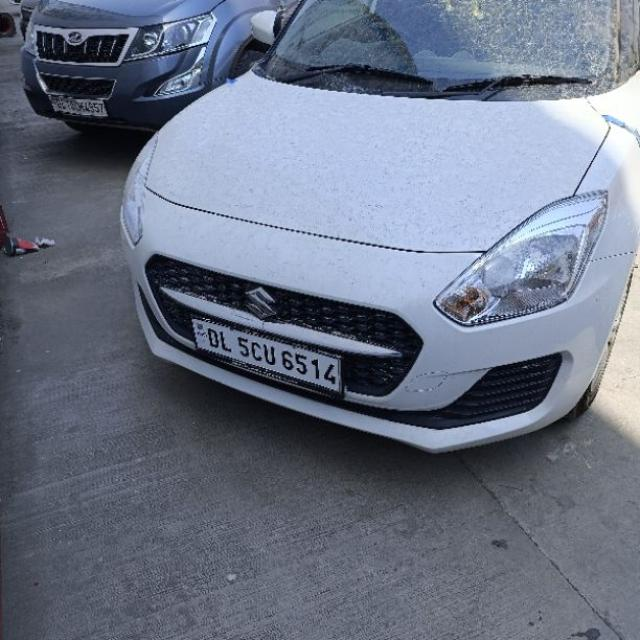license_plate: (189, 316, 344, 400)
